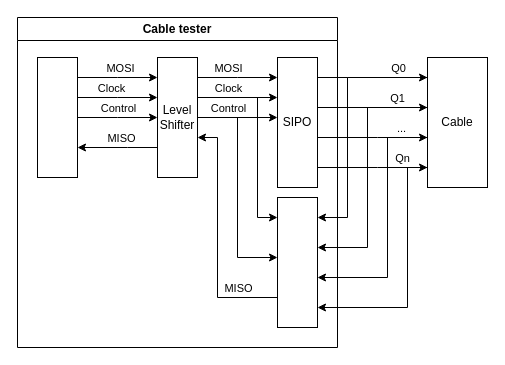
This 505x365 diagram has some shape labels left out. Each missing label, with the centre of its shape:
MCU: the point at 57,117
PISO: the point at 297,262
